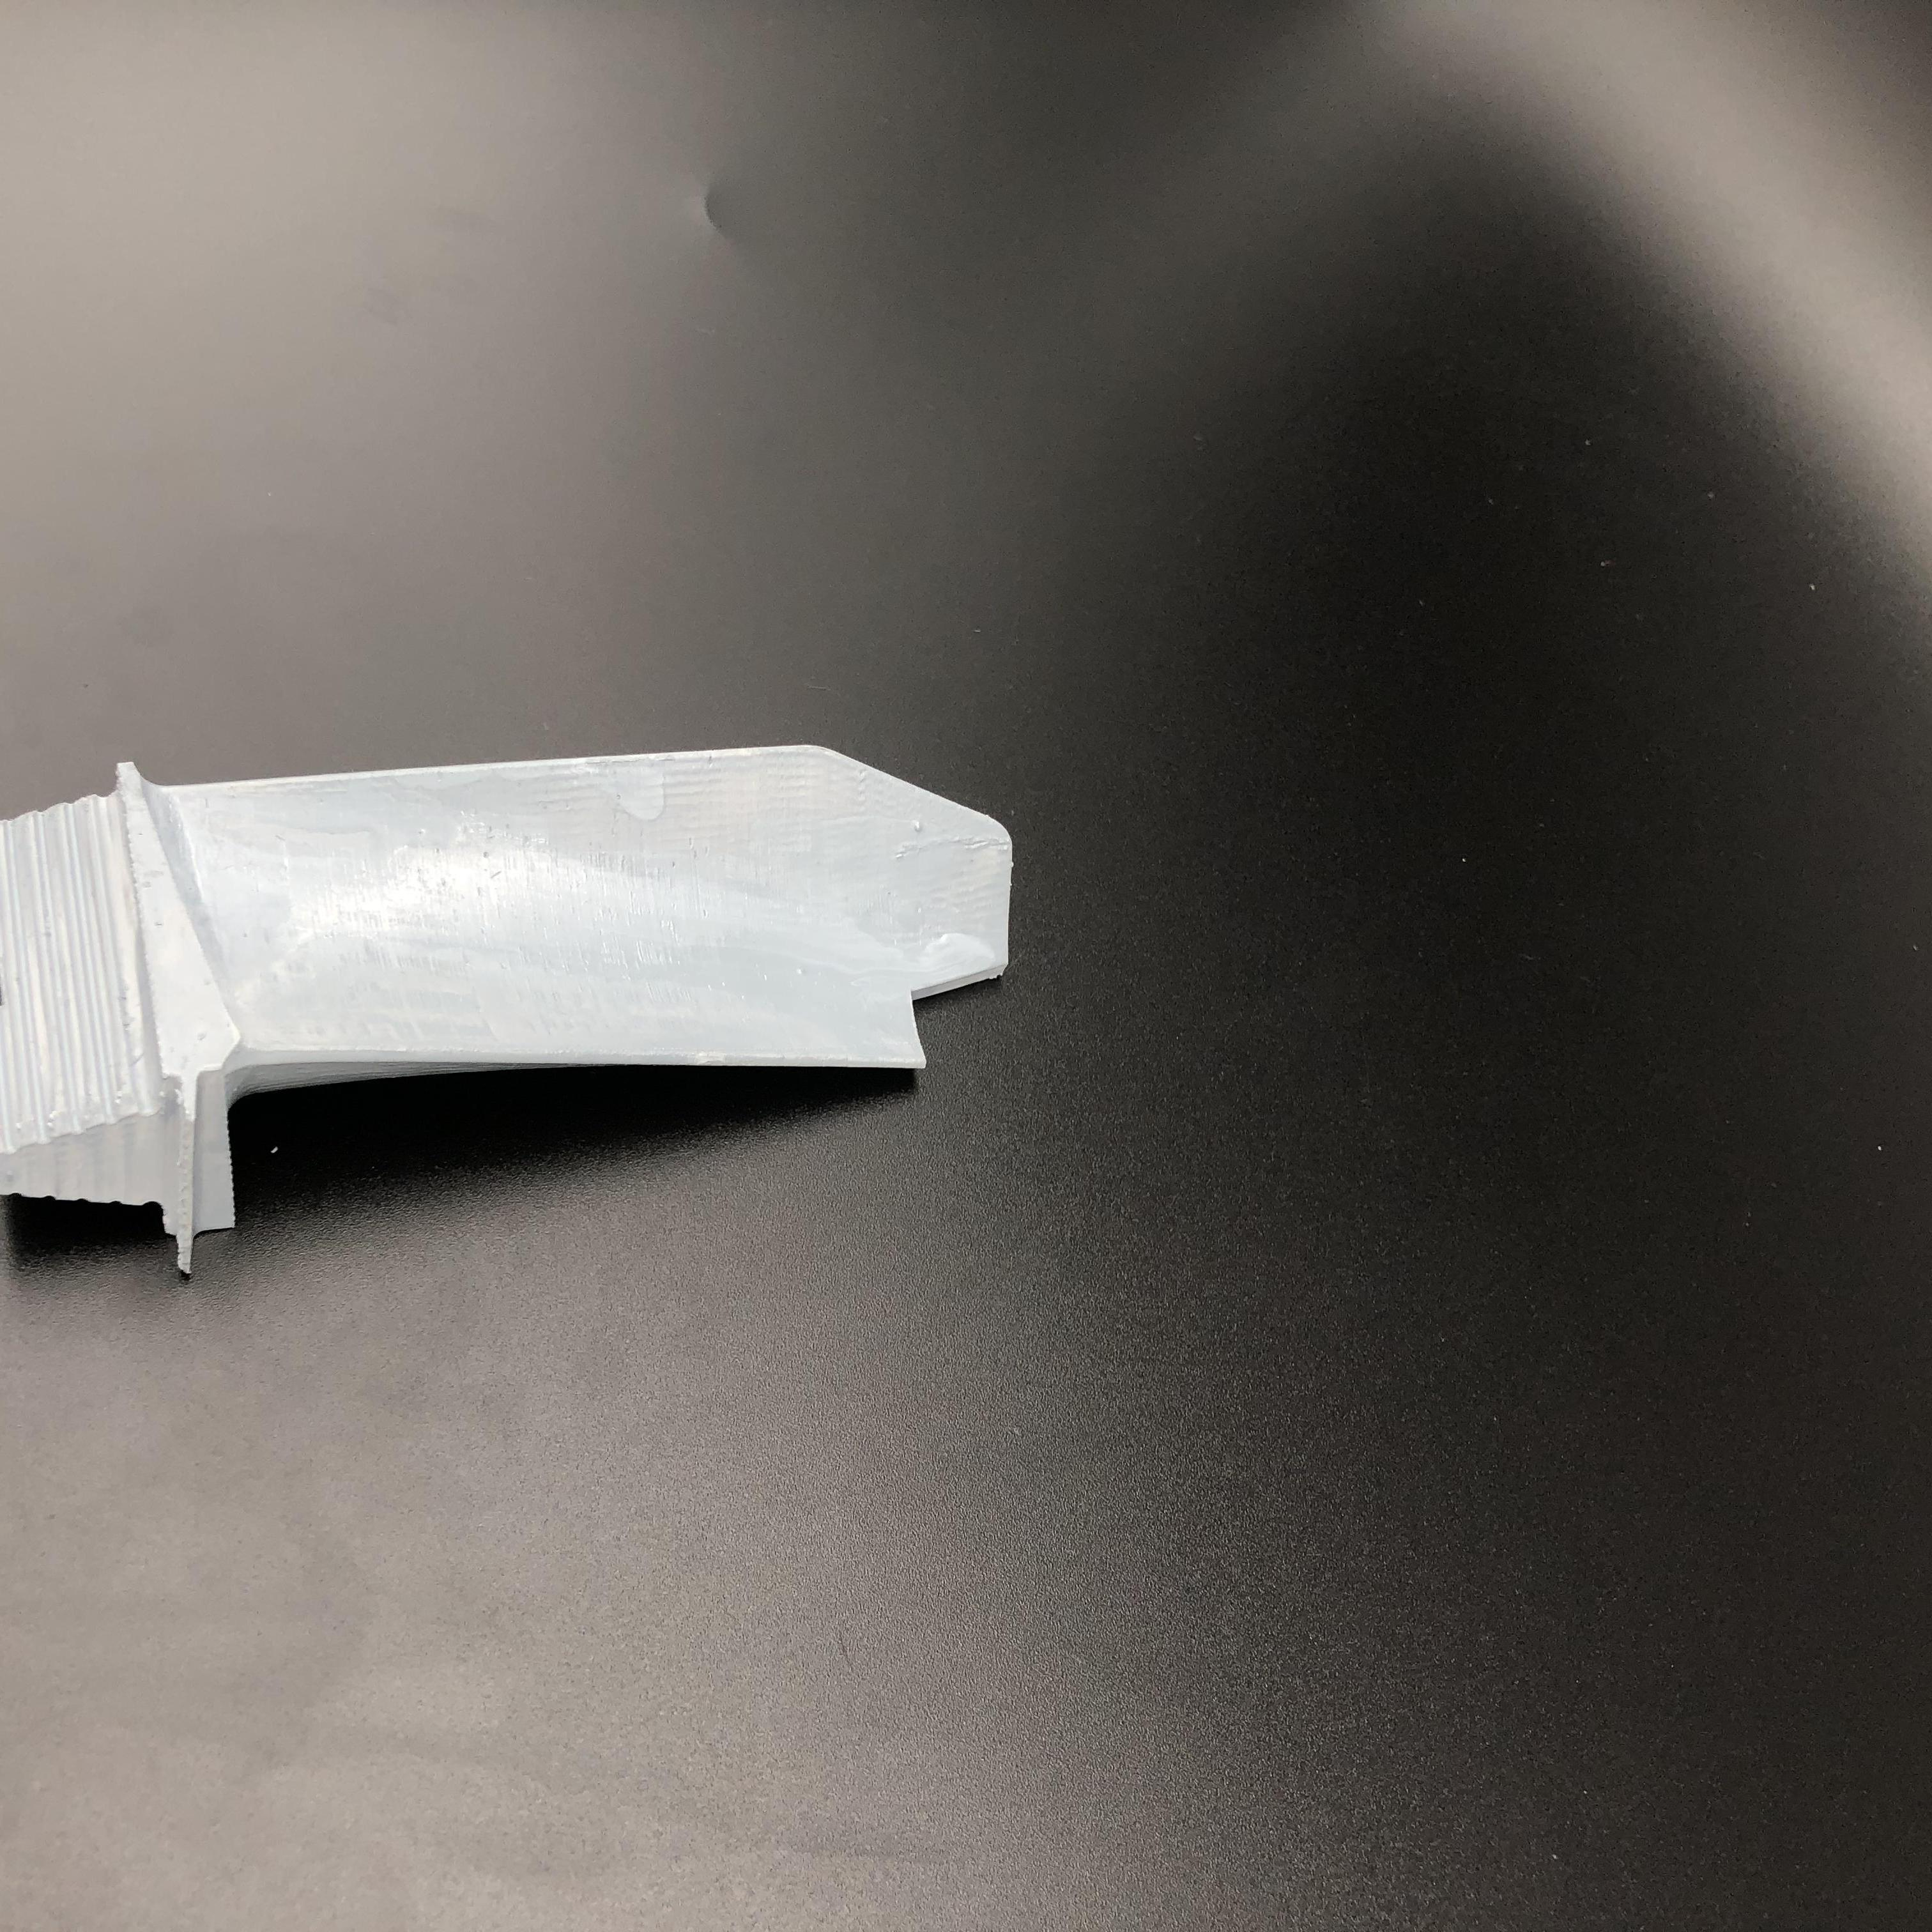fracture: (909, 961, 1007, 1062)
